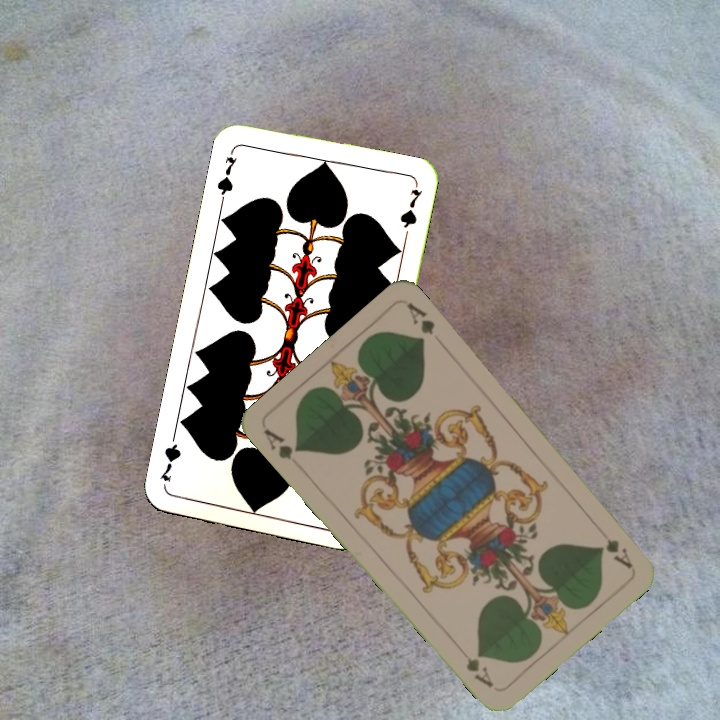G7: (212, 145, 240, 204)
GA: (260, 425, 304, 463), (601, 534, 636, 571)
